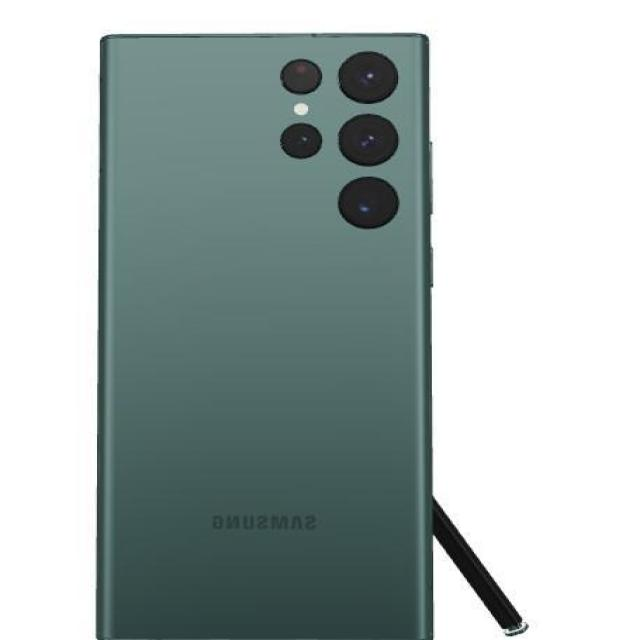mobile: (96, 31, 434, 640)
